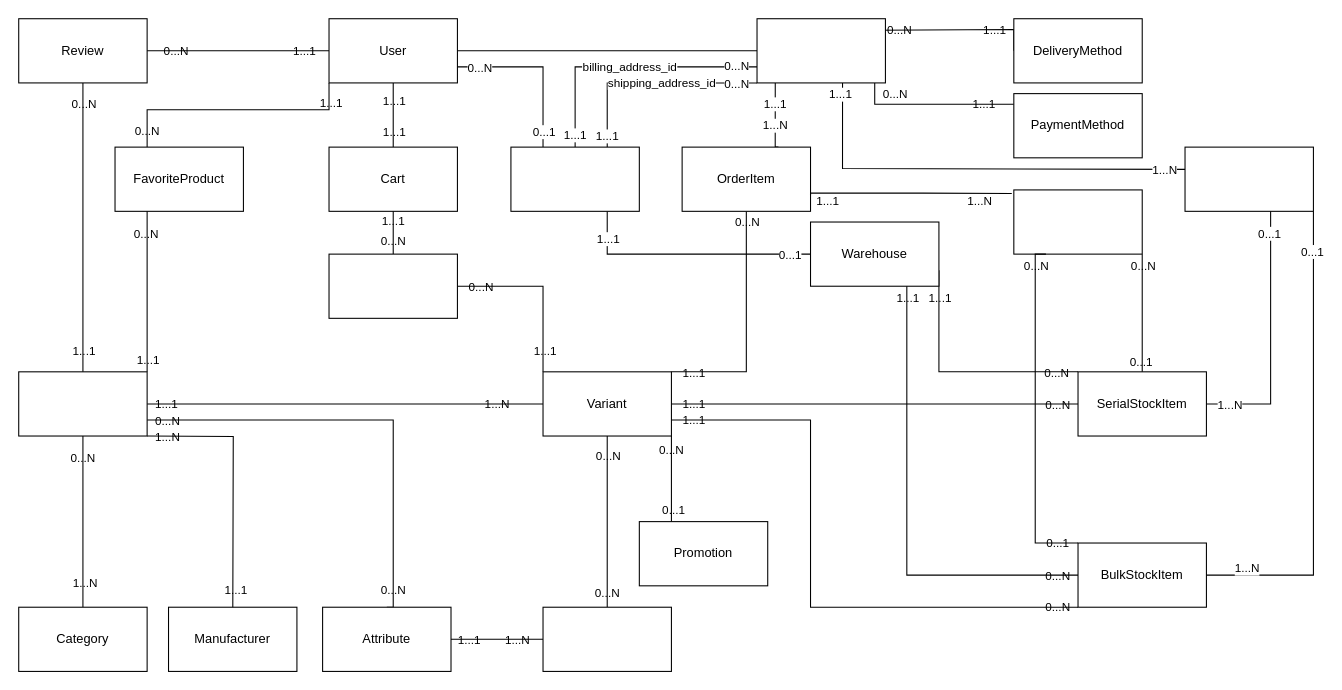
Some shapes in this 1342 by 690 pixel diagram are drawn without their labels. The shapes that lost their labels are listed below. From the top down, each one's centre as x and y in pixels, then its label:
At [820,50]: "Order".
At [574,178]: "Address".
At [1248,178]: "Shipment".
At [1077,221]: "OrderStockAllocation".
At [392,285]: "CartItem".
At [82,403]: "Product".
At [606,638]: "Option".
